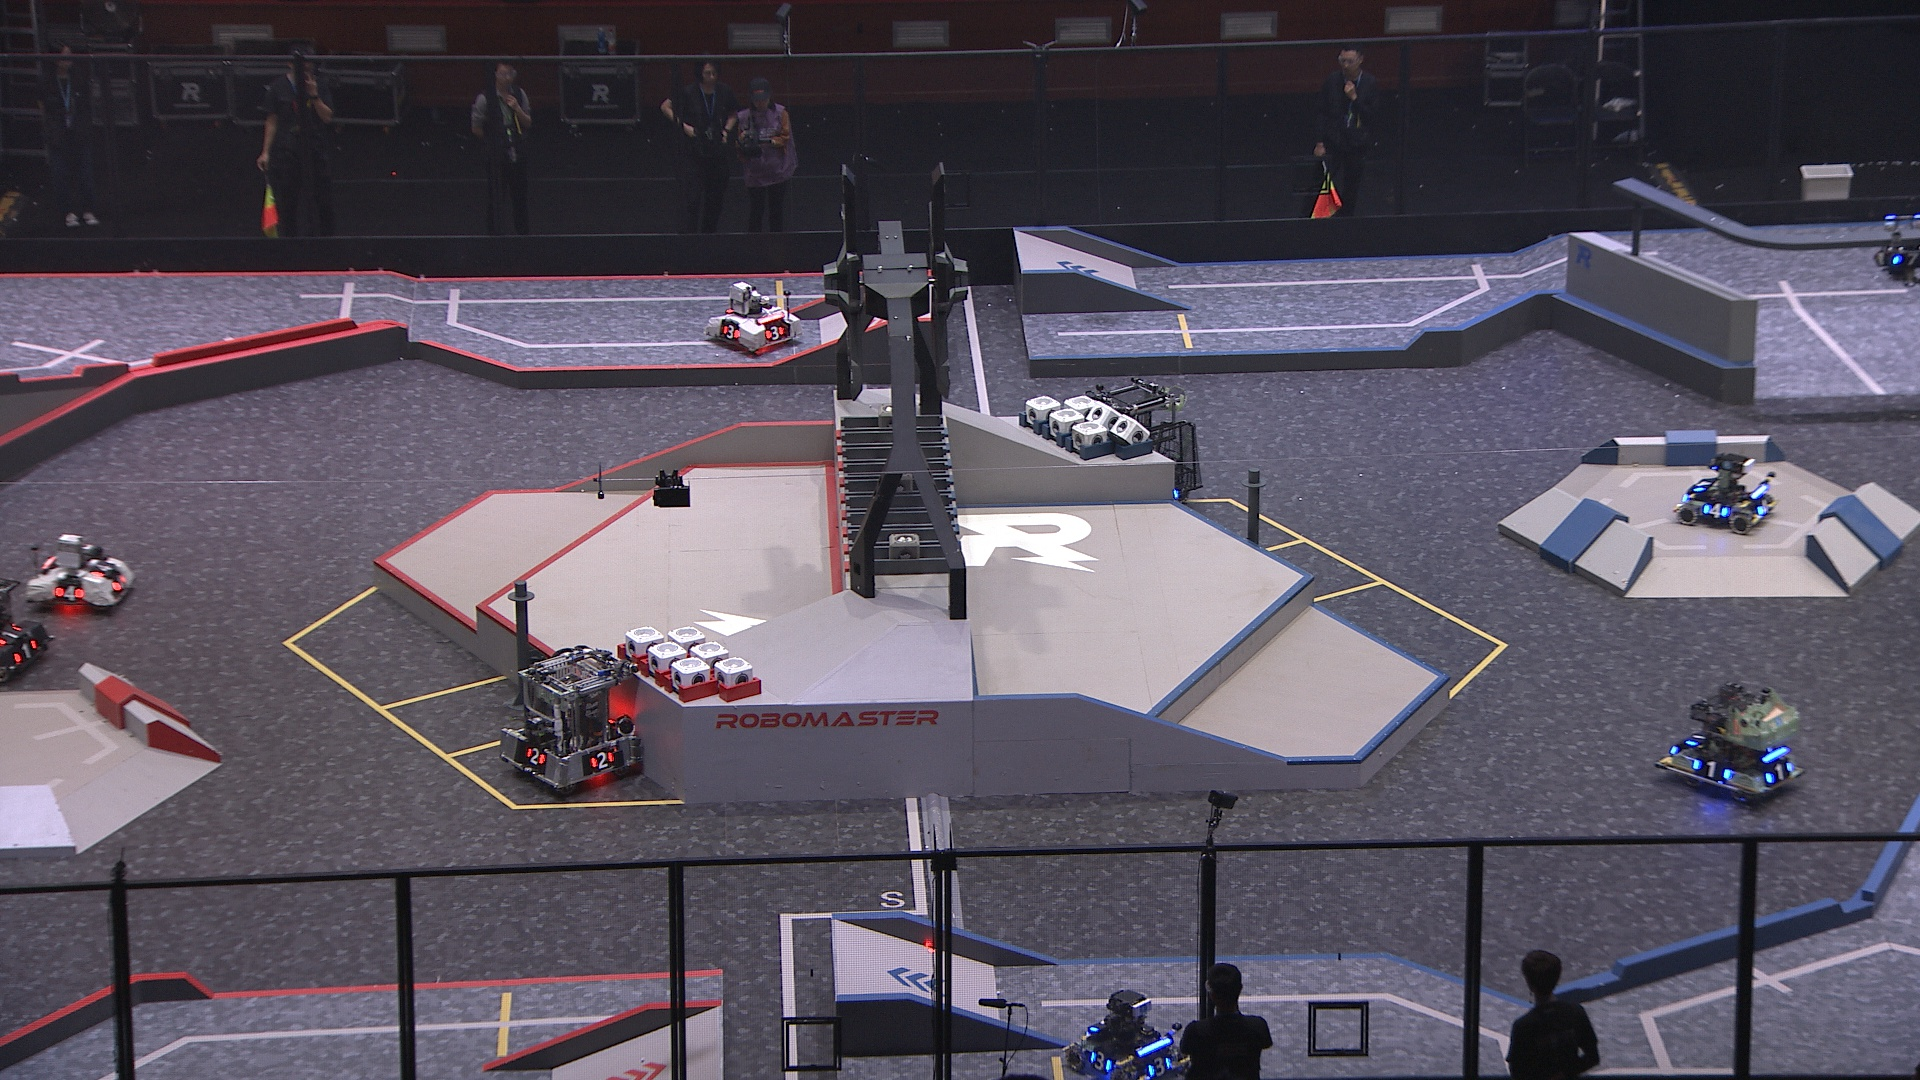armor: (1695, 757, 1733, 782), (13, 637, 41, 669), (1764, 760, 1795, 785), (1091, 1050, 1116, 1076), (53, 583, 86, 603), (1702, 501, 1731, 522), (90, 556, 119, 578), (1145, 1058, 1174, 1077), (1890, 249, 1920, 268), (0, 626, 25, 647), (589, 750, 615, 771), (1683, 732, 1709, 750), (764, 324, 789, 342), (526, 746, 546, 766), (1692, 477, 1714, 495), (1756, 498, 1775, 518), (721, 323, 742, 339), (112, 572, 129, 591)
car: (498, 646, 644, 794), (1656, 680, 1807, 806), (1083, 380, 1205, 508), (1063, 988, 1195, 1080), (24, 531, 138, 611), (1673, 454, 1778, 533), (704, 280, 798, 353)
watcher: (1874, 211, 1920, 287)
